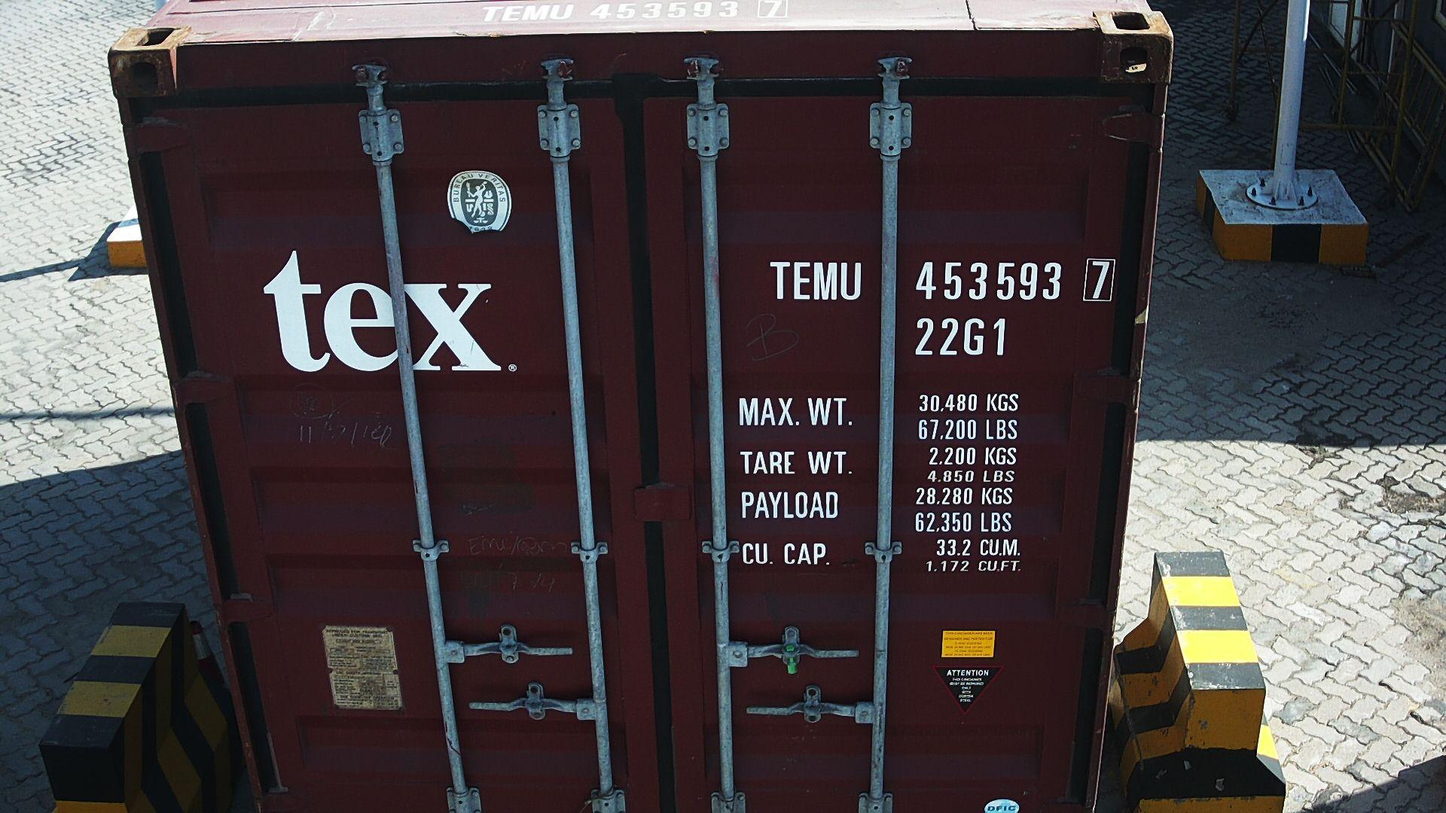container-numbers: (767, 255, 1119, 306), (477, 0, 795, 23), (911, 314, 1011, 358)
